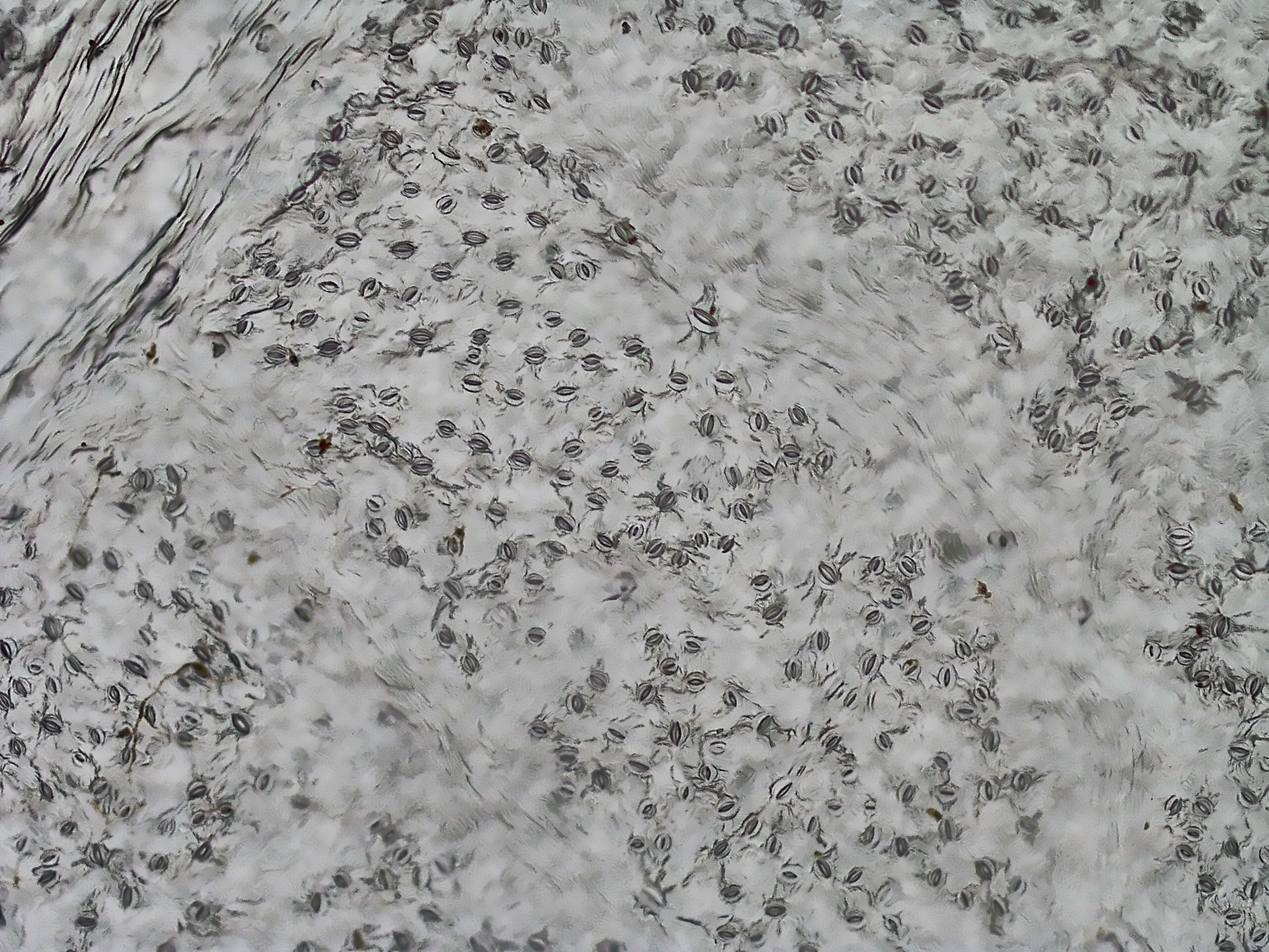stomata: (259, 341, 300, 372), (1203, 605, 1232, 648), (1155, 555, 1194, 583), (683, 304, 722, 331), (986, 321, 1020, 350), (1177, 381, 1209, 411), (1014, 54, 1044, 85), (758, 110, 790, 139), (1158, 18, 1195, 43), (990, 521, 1019, 552), (903, 23, 937, 49), (773, 23, 803, 50), (859, 649, 885, 680), (416, 905, 448, 930), (904, 612, 937, 636), (1230, 555, 1257, 584), (223, 313, 257, 336), (433, 143, 468, 165), (999, 4, 1025, 33), (70, 910, 100, 935), (440, 527, 464, 558), (314, 149, 346, 172), (1163, 526, 1198, 547), (680, 66, 704, 96), (937, 813, 962, 841), (1106, 397, 1130, 426), (1024, 401, 1054, 424), (1176, 148, 1199, 178), (115, 882, 141, 908), (633, 680, 658, 707), (227, 281, 254, 306), (614, 220, 642, 244), (1210, 204, 1234, 232), (709, 798, 738, 821), (1208, 570, 1229, 601), (838, 202, 863, 228), (290, 600, 314, 627), (551, 746, 578, 770), (953, 28, 977, 55), (127, 467, 156, 489), (62, 579, 87, 604), (753, 460, 777, 486), (1073, 315, 1099, 339), (551, 382, 578, 405), (652, 10, 679, 33), (795, 144, 822, 167), (154, 534, 176, 562), (622, 389, 650, 411), (826, 120, 854, 142), (849, 59, 877, 81), (132, 627, 161, 648), (859, 819, 880, 848), (979, 775, 1000, 804), (844, 159, 865, 188), (86, 842, 111, 866), (307, 889, 331, 914), (167, 587, 192, 611), (786, 403, 810, 428), (186, 839, 212, 862), (188, 899, 211, 925), (373, 868, 396, 894), (378, 129, 409, 148), (771, 776, 792, 804), (634, 798, 663, 818), (564, 689, 588, 713), (816, 562, 840, 586), (886, 161, 910, 185), (1135, 189, 1159, 213), (146, 851, 171, 874), (740, 813, 763, 838), (728, 27, 751, 52), (799, 72, 824, 95), (7, 676, 33, 698), (408, 453, 434, 475), (626, 755, 652, 777), (1211, 77, 1233, 103), (522, 718, 552, 737), (120, 657, 147, 678), (813, 449, 834, 476), (1044, 425, 1065, 452), (1082, 269, 1103, 296), (1066, 26, 1093, 47), (824, 677, 844, 705), (1246, 516, 1266, 544), (747, 410, 770, 434), (679, 632, 703, 655), (862, 605, 885, 629), (1240, 133, 1263, 157), (32, 871, 61, 890), (283, 793, 312, 812), (38, 715, 63, 737), (465, 432, 490, 454), (364, 516, 386, 541), (440, 578, 465, 600), (537, 38, 559, 63), (186, 780, 212, 801), (141, 703, 162, 729), (42, 614, 63, 640), (1243, 877, 1264, 903), (1073, 430, 1099, 451), (371, 84, 397, 105), (1111, 44, 1137, 65), (709, 372, 741, 389), (304, 436, 334, 454), (252, 767, 271, 795), (940, 269, 968, 288), (163, 460, 186, 483), (893, 779, 916, 802), (35, 776, 57, 800), (523, 623, 547, 645), (344, 928, 368, 950), (644, 538, 666, 562), (759, 603, 783, 625), (1007, 769, 1031, 791), (525, 147, 549, 169), (613, 15, 637, 37), (979, 255, 1003, 277), (903, 131, 927, 153), (605, 724, 630, 745), (733, 498, 754, 523), (1226, 741, 1251, 762), (881, 587, 910, 605), (459, 653, 485, 673), (898, 552, 918, 578), (697, 411, 716, 438), (318, 338, 345, 357), (191, 642, 214, 664), (66, 544, 88, 567), (484, 501, 506, 524), (632, 441, 655, 463), (18, 540, 42, 561), (131, 578, 155, 599), (779, 444, 803, 465), (897, 703, 925, 721), (1217, 306, 1238, 330), (879, 199, 903, 220), (53, 820, 78, 840), (376, 385, 401, 405), (523, 347, 548, 367), (435, 194, 460, 214), (1126, 120, 1146, 145), (248, 244, 279, 260), (154, 817, 180, 836), (225, 648, 244, 674), (541, 536, 567, 555), (937, 662, 956, 688), (387, 241, 416, 258), (460, 229, 489, 246), (433, 419, 460, 437), (523, 572, 550, 590), (506, 451, 533, 469), (1246, 675, 1264, 702), (409, 327, 436, 345), (567, 329, 594, 347), (843, 864, 865, 886), (1162, 795, 1184, 817), (1172, 645, 1194, 667), (693, 15, 715, 37), (1043, 305, 1065, 327), (229, 713, 250, 736), (87, 775, 110, 796), (331, 871, 354, 892), (716, 68, 737, 91), (583, 491, 607, 511), (950, 703, 980, 719), (1192, 277, 1212, 301), (426, 263, 454, 280), (598, 461, 623, 480), (552, 515, 577, 534), (812, 858, 831, 883), (865, 552, 884, 577), (1142, 639, 1161, 664), (724, 462, 742, 488), (897, 658, 923, 676), (921, 94, 947, 112), (577, 354, 606, 370), (207, 600, 229, 621), (594, 531, 616, 552), (720, 689, 741, 711), (1246, 926, 1268, 947), (969, 204, 990, 226), (461, 373, 484, 393), (497, 539, 517, 562), (981, 728, 1001, 751), (800, 105, 823, 125), (720, 883, 747, 900), (523, 212, 550, 229), (433, 628, 457, 647), (550, 468, 574, 487), (553, 779, 577, 798), (714, 925, 738, 944), (930, 750, 954, 769), (1193, 795, 1212, 819), (1229, 174, 1253, 193), (626, 837, 651, 855), (1128, 249, 1146, 274), (767, 831, 781, 863), (331, 396, 357, 413), (1078, 371, 1104, 388), (480, 192, 506, 209), (657, 490, 678, 511), (973, 858, 994, 879), (1042, 203, 1063, 224), (63, 653, 85, 673), (41, 675, 61, 697), (101, 549, 121, 571), (715, 534, 737, 554), (327, 121, 349, 141), (421, 10, 443, 30), (1145, 335, 1165, 357), (1156, 289, 1176, 311), (1008, 119, 1028, 141), (822, 733, 841, 756), (823, 795, 842, 818), (933, 783, 956, 802), (951, 641, 974, 660), (1159, 250, 1182, 269), (1157, 93, 1180, 112), (394, 507, 412, 531), (666, 371, 690, 389), (810, 629, 828, 653), (334, 232, 361, 248), (493, 91, 520, 107), (948, 293, 972, 311), (1089, 145, 1107, 169), (1015, 817, 1040, 834), (347, 309, 372, 326), (459, 285, 484, 302), (939, 137, 964, 154), (588, 670, 609, 690), (642, 628, 662, 649), (889, 836, 909, 857), (926, 867, 946, 888), (623, 337, 644, 357), (69, 747, 91, 766), (217, 511, 236, 533), (684, 672, 706, 691), (690, 482, 709, 504), (294, 310, 320, 326), (164, 497, 187, 515), (590, 768, 608, 791), (750, 573, 773, 591), (514, 25, 532, 48), (185, 811, 209, 828), (1193, 667, 1210, 691), (398, 180, 422, 197), (530, 94, 554, 111), (404, 104, 428, 121), (396, 151, 420, 168), (1114, 325, 1131, 349), (848, 685, 863, 712), (9, 833, 29, 853), (559, 440, 584, 456), (1183, 826, 1208, 842), (542, 311, 567, 327), (975, 78, 995, 98), (957, 174, 982, 190), (114, 802, 135, 821), (7, 737, 26, 758), (483, 574, 504, 593), (955, 888, 974, 909), (972, 683, 993, 702), (575, 259, 594, 280), (558, 154, 577, 175), (928, 247, 949, 266), (179, 709, 201, 727), (398, 441, 420, 459), (503, 388, 525, 406), (367, 493, 389, 511), (391, 930, 413, 948), (746, 928, 768, 946), (991, 896, 1009, 918), (881, 914, 903, 932), (393, 844, 410, 867), (0, 638, 17, 661), (360, 279, 383, 296), (492, 53, 515, 70), (669, 719, 684, 745), (315, 277, 341, 292), (659, 657, 678, 677), (696, 763, 716, 782), (1237, 786, 1256, 806), (545, 261, 565, 280), (1177, 334, 1197, 353), (1246, 256, 1265, 276), (117, 746, 138, 764), (367, 415, 388, 433), (670, 550, 691, 568), (873, 731, 891, 752), (432, 79, 459, 93), (173, 730, 198, 745), (89, 723, 106, 745), (113, 725, 135, 742), (707, 739, 729, 756), (1242, 293, 1259, 315), (1027, 149, 1044, 171), (675, 781, 691, 804), (762, 903, 785, 919), (1219, 676, 1235, 699), (1221, 839, 1240, 858), (456, 38, 475, 57), (1007, 877, 1027, 895), (1173, 843, 1197, 858), (1085, 95, 1103, 115), (809, 0, 829, 18), (106, 685, 123, 706), (388, 545, 405, 566), (493, 26, 510, 47), (785, 656, 801, 678), (24, 660, 47, 675), (842, 912, 865, 927), (1221, 907, 1244, 922), (1003, 183, 1022, 201), (839, 39, 858, 57), (779, 866, 799, 883), (495, 253, 515, 270), (39, 851, 60, 867), (287, 188, 308, 204), (934, 215, 955, 231), (217, 802, 235, 820), (188, 535, 205, 554), (340, 418, 359, 435), (839, 765, 858, 782), (627, 520, 642, 541), (334, 190, 358, 203), (656, 832, 670, 854), (806, 809, 817, 837), (487, 143, 505, 160), (906, 221, 923, 239), (1197, 875, 1213, 894), (282, 271, 302, 286), (920, 174, 935, 194), (386, 46, 409, 59), (382, 826, 399, 843), (498, 298, 522, 310), (1256, 843, 1269, 865), (469, 330, 491, 343), (712, 839, 727, 858), (312, 208, 332, 222), (402, 288, 422, 302), (471, 122, 492, 135), (693, 530, 709, 547), (575, 181, 591, 198), (588, 405, 604, 421), (377, 439, 392, 455), (464, 352, 483, 364), (272, 296, 292, 307), (263, 264, 281, 275), (864, 798, 877, 813)
